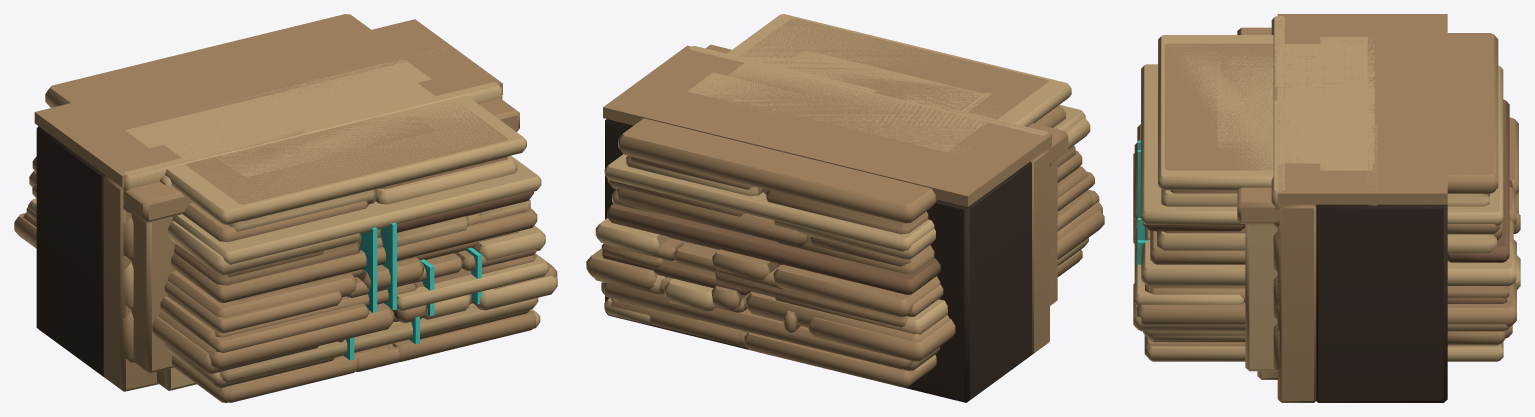
The model's file is nahara-kit.glb.
3 renders of one model, left to right at view 1: azimuth 30°, elevation 25°; view 2: azimuth 150°, elevation 25°; view 3: azimuth 270°, elevation 25°, orthographic. The views are drawn at different scales.
Visible parts, largest first — view 1: nah_pillar_2, nah_wall_0, nah_pillar_1, nah_pillar_0, nah_gate_0, nah_aqueduct_0, nah_ring_0, nah_tower_2, nah_aqueduct_1, nah_tower_1, nah_aqueduct_2, nah_wall_3 (+2 smaller); view 2: nah_wall_0, nah_pillar_2, nah_pillar_0, nah_pillar_1, nah_gate_0, nah_aqueduct_0, nah_tower_1, nah_tower_0, nah_ring_0, nah_aqueduct_1, nah_aqueduct_2; view 3: nah_wall_0, nah_pillar_2, nah_pillar_1, nah_gate_0, nah_pillar_0, nah_ring_0, nah_aqueduct_0, nah_aqueduct_1, nah_tower_1, nah_tower_2, nah_aqueduct_2.
Part boxes in pixels (x1,y1,x2,y2): nah_pillar_2: [23, 95, 557, 389]; nah_wall_0: [34, 19, 502, 391]; nah_pillar_1: [26, 22, 548, 402]; nah_pillar_0: [14, 14, 557, 402]; nah_gate_0: [123, 62, 519, 373]; nah_aqueduct_0: [76, 47, 502, 362]; nah_ring_0: [125, 59, 431, 147]; nah_tower_2: [216, 113, 400, 176]; nah_aqueduct_1: [78, 47, 500, 212]; nah_tower_1: [231, 113, 435, 172]; nah_aqueduct_2: [78, 88, 305, 187]; nah_wall_3: [125, 175, 189, 391]; nah_wall_0: [603, 45, 1051, 402]; nah_pillar_2: [586, 14, 1102, 371]; nah_pillar_0: [594, 105, 1104, 370]; nah_pillar_1: [601, 18, 1099, 387]; nah_gate_0: [705, 44, 1068, 305]; nah_aqueduct_0: [689, 46, 1051, 169]; nah_tower_1: [785, 48, 985, 110]; nah_tower_0: [788, 50, 984, 111]; nah_ring_0: [687, 72, 977, 154]; nah_aqueduct_1: [689, 46, 1045, 168]; nah_aqueduct_2: [810, 91, 1045, 168]; nah_wall_0: [1257, 14, 1447, 402]; nah_pillar_2: [1133, 35, 1518, 342]; nah_pillar_1: [1134, 41, 1507, 355]; nah_gate_0: [1237, 27, 1374, 371]; nah_pillar_0: [1133, 33, 1520, 361]; nah_ring_0: [1320, 37, 1372, 170]; nah_aqueduct_0: [1271, 16, 1377, 371]; nah_aqueduct_1: [1271, 16, 1377, 190]; nah_tower_1: [1217, 61, 1273, 149]; nah_tower_2: [1217, 58, 1273, 147]; nah_aqueduct_2: [1272, 16, 1377, 317].
Size of the model in its own units: 2.1 by 1.17 by 1.91.
